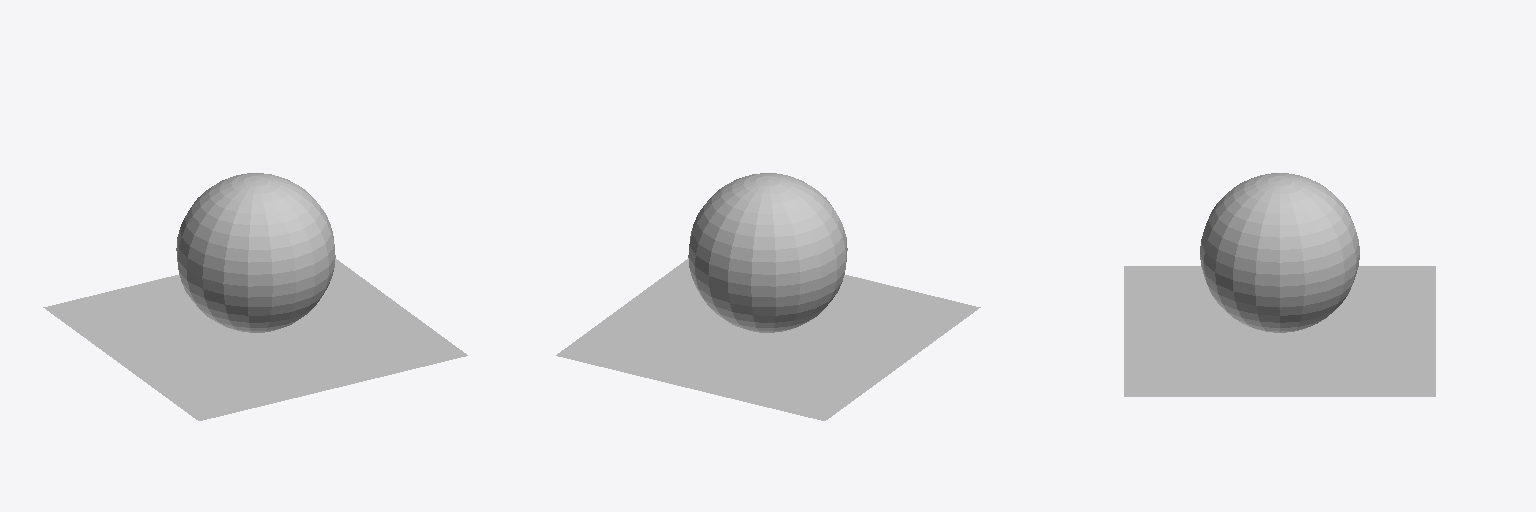
File: sphere-on-plane-centred.obj
The picture shows the model from 3 angles: view 1: azimuth 30°, elevation 25°; view 2: azimuth 150°, elevation 25°; view 3: azimuth 270°, elevation 25°; orthographic projection.
Visible parts, largest first — view 1: pPlane1, pSphere1; view 2: pPlane1, pSphere1; view 3: pPlane1, pSphere1.
Boxes of the visible parts, <box> form: pPlane1: <box>43,258,467,420</box>; pSphere1: <box>176,173,335,332</box>; pPlane1: <box>556,258,980,420</box>; pSphere1: <box>688,173,847,332</box>; pPlane1: <box>1124,266,1435,396</box>; pSphere1: <box>1200,173,1359,332</box>.
Size of the model in its own units: 10 by 5.36 by 10.